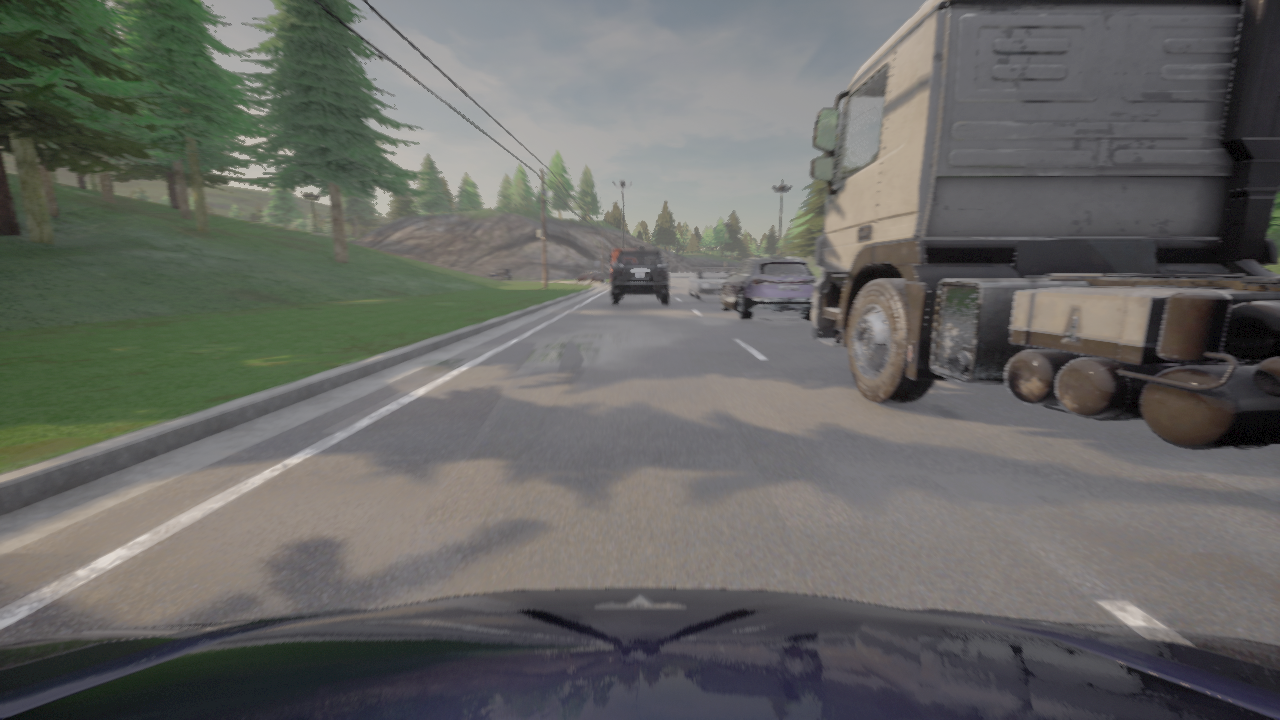cyclist: (810, 0, 1279, 449), (0, 588, 1279, 719), (719, 256, 817, 320), (611, 250, 668, 304), (607, 247, 642, 281), (689, 271, 730, 300), (574, 270, 604, 283), (487, 268, 512, 280)
